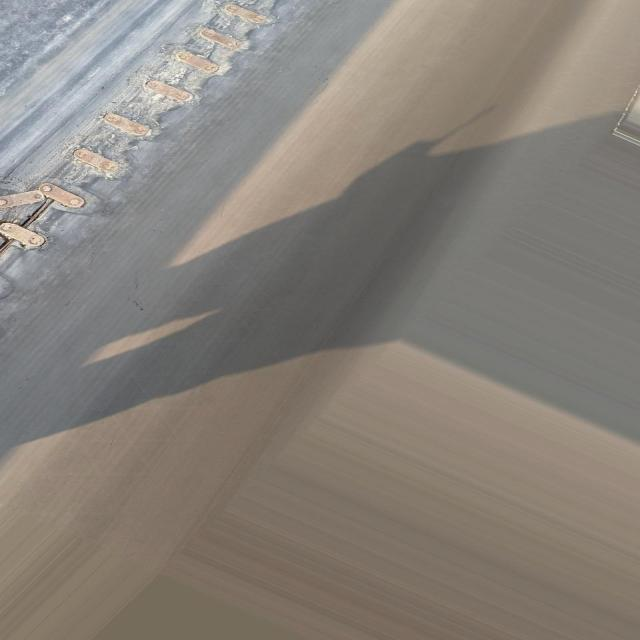patch work: (0, 0, 297, 278)
